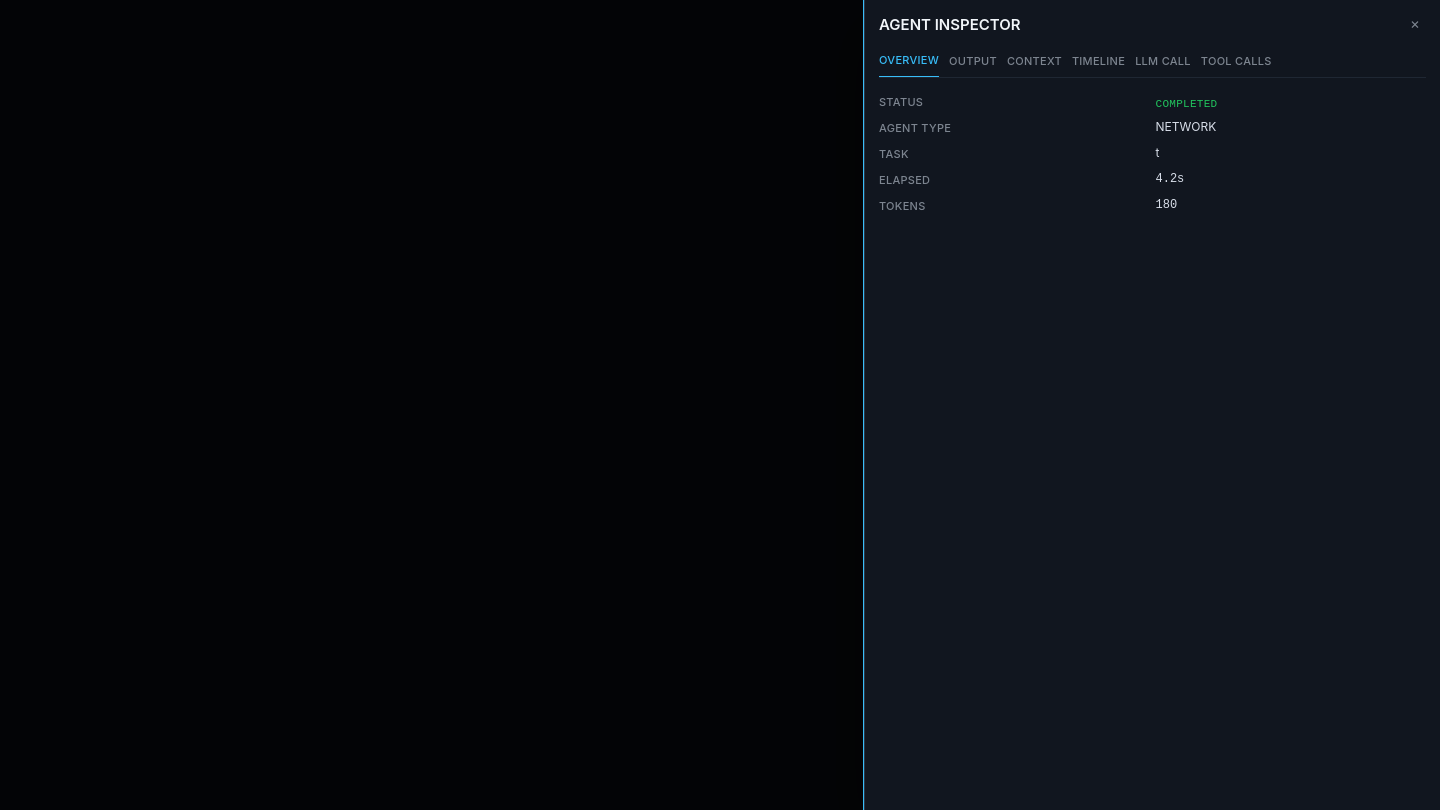
AgentInspector › switches to the Timeline tab when clicked
Check: the element with test id "overview-tab" is shown, box [879,95,1217,213]
Click the button "TIMELINE" at (1098, 64), box [1072,50,1125,77]
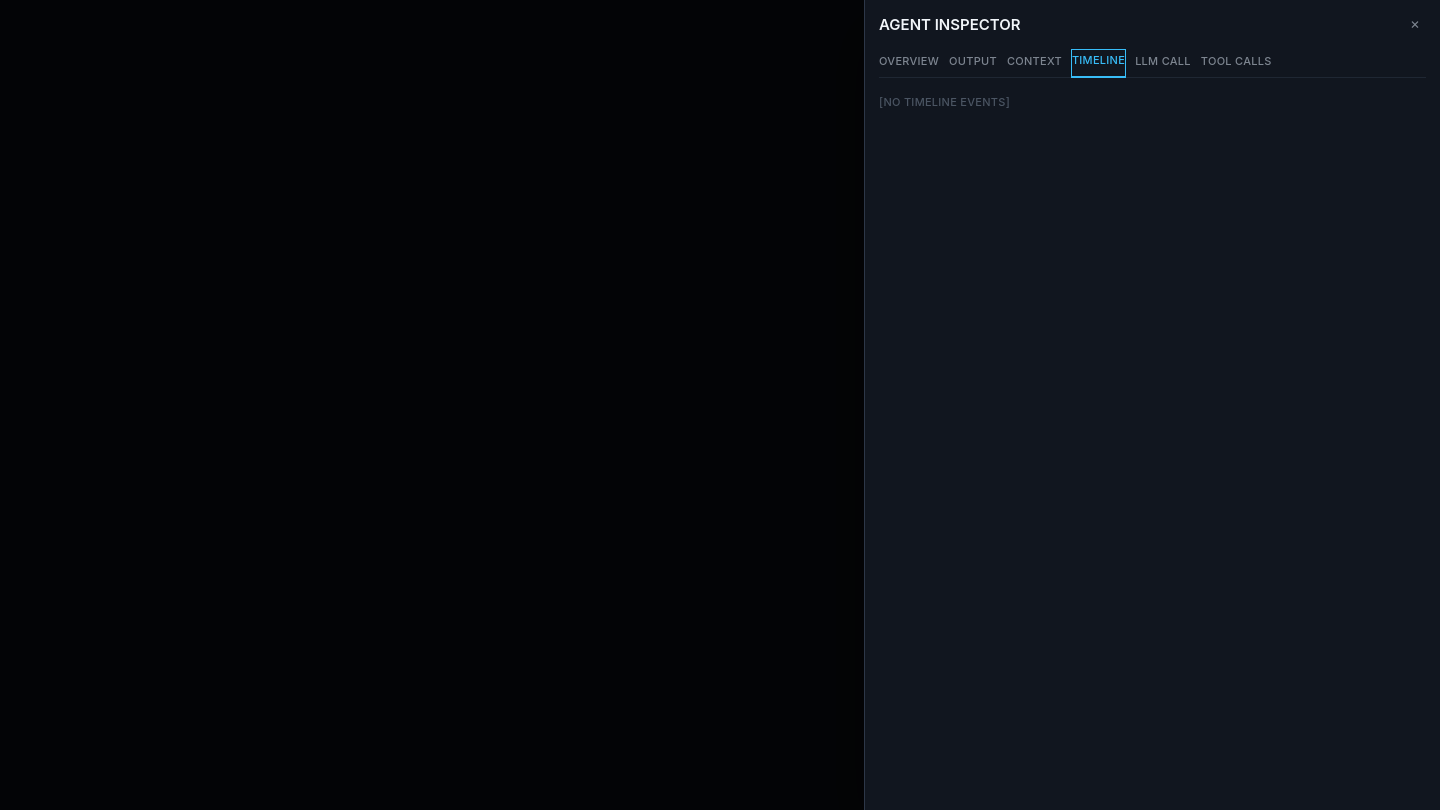
Check: the text "[NO TIMELINE EVENTS]" is shown, box [879,95,1010,109]
